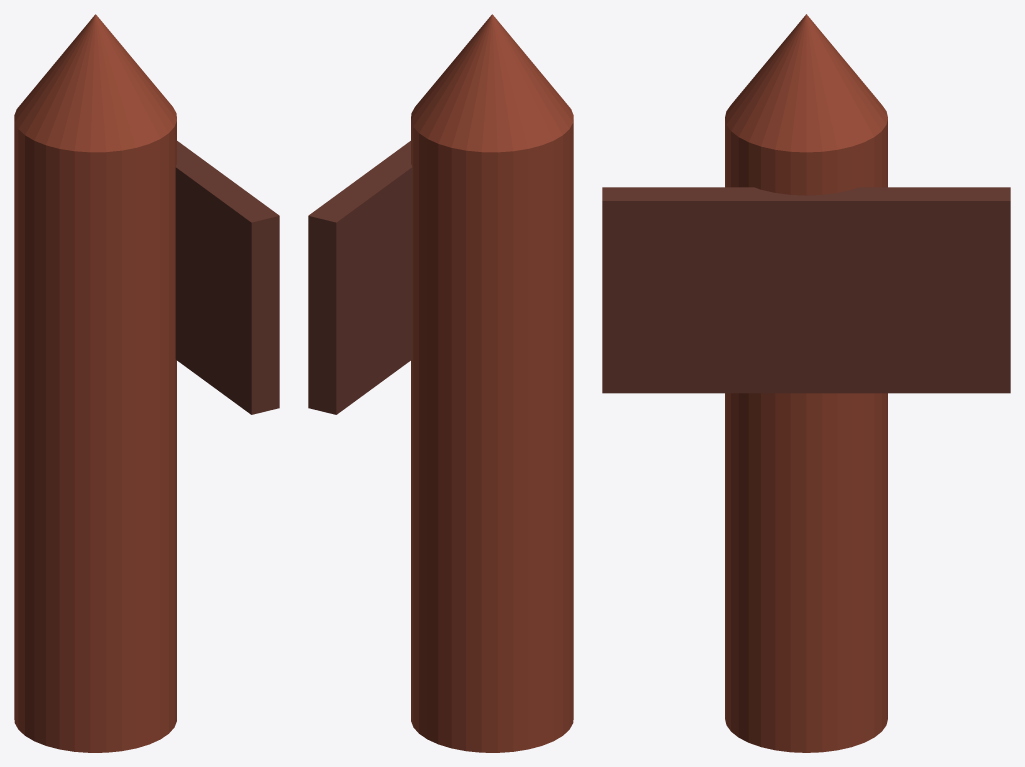
The model's file is tablo.fbx.
3 renders of one model, left to right at view 1: azimuth 30°, elevation 25°; view 2: azimuth 150°, elevation 25°; view 3: azimuth 270°, elevation 25°, orthographic.
Parts seen in each view (by area): view 1: Cube; view 2: Cube; view 3: Cube.
Boxes of the visible parts, x1,y1,x2,y2 form: Cube: [14, 14, 279, 752]; Cube: [308, 14, 573, 752]; Cube: [602, 14, 1010, 752].
Size of the model in its own units: 108 by 476 by 250.
